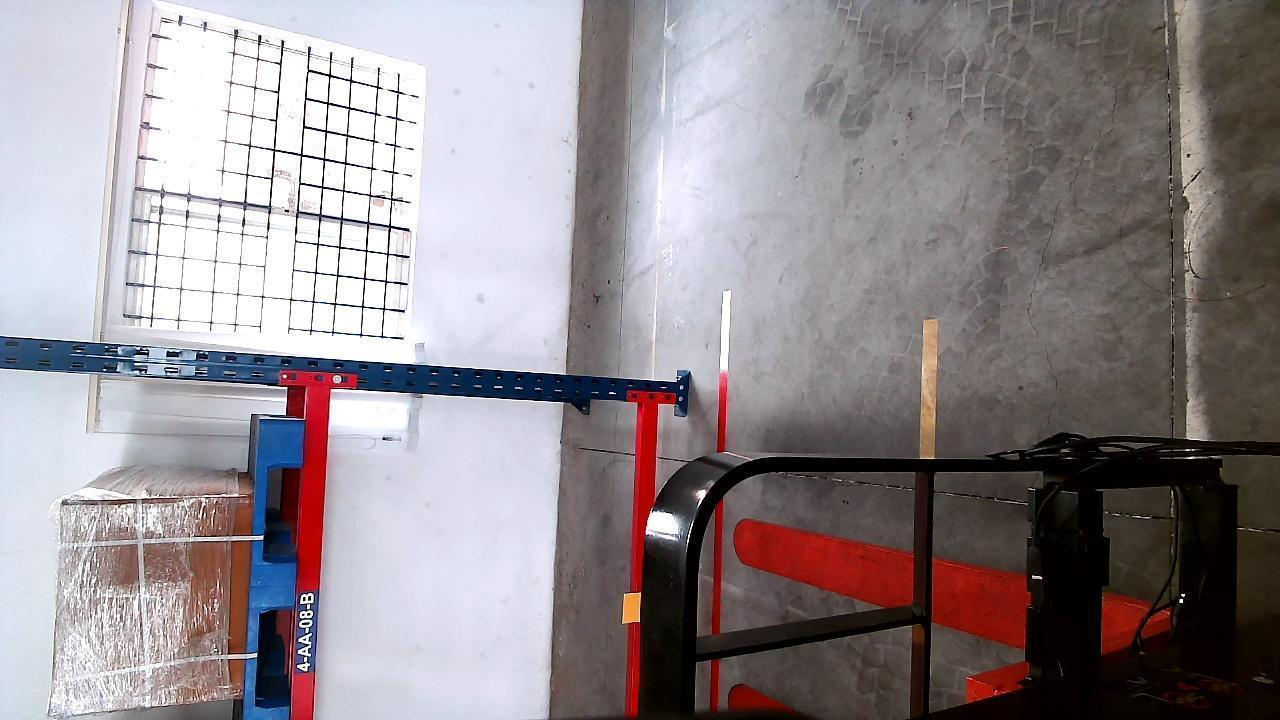red_line: (702, 363, 731, 706)
yellow_line: (918, 319, 941, 458)
